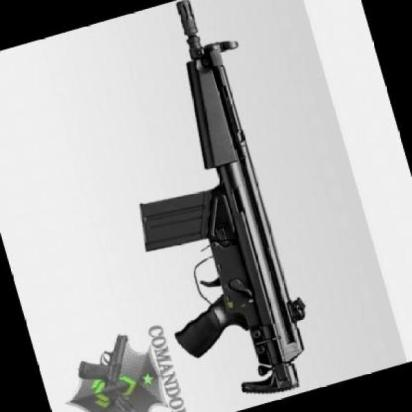Gun: (137, 0, 307, 395)
